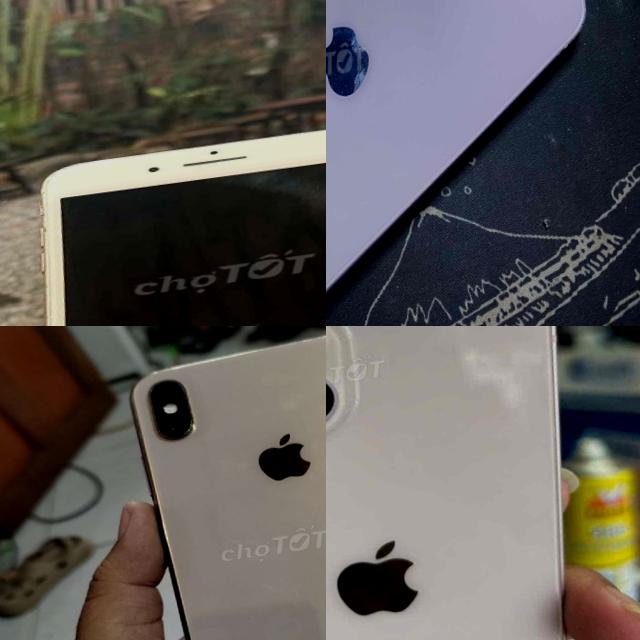gen_12_13: (326, 0, 637, 326), (326, 326, 606, 640)
gen_7_8: (4, 109, 326, 326)
gen_x_xs: (131, 338, 326, 640)
physical_damage: (349, 0, 592, 78)
